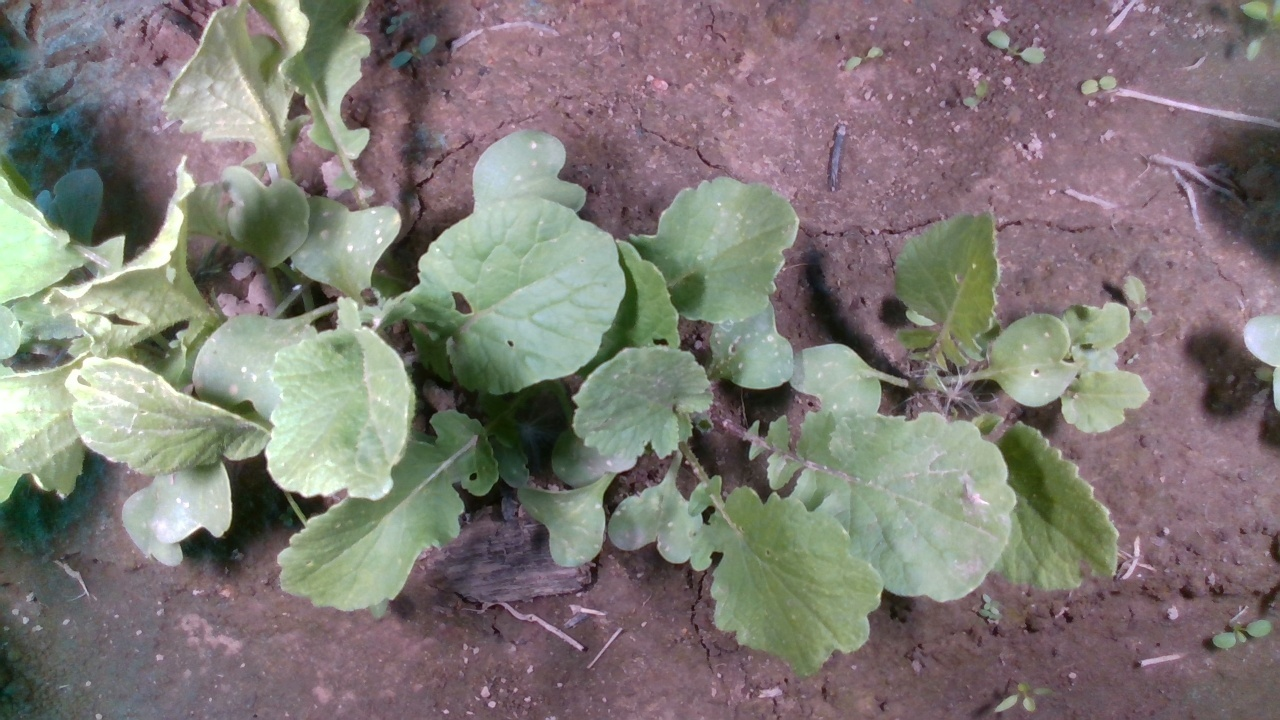weed: (985, 27, 1047, 65), (992, 682, 1055, 715), (1209, 617, 1273, 649), (842, 45, 885, 72), (1079, 72, 1119, 96), (962, 76, 989, 109)
